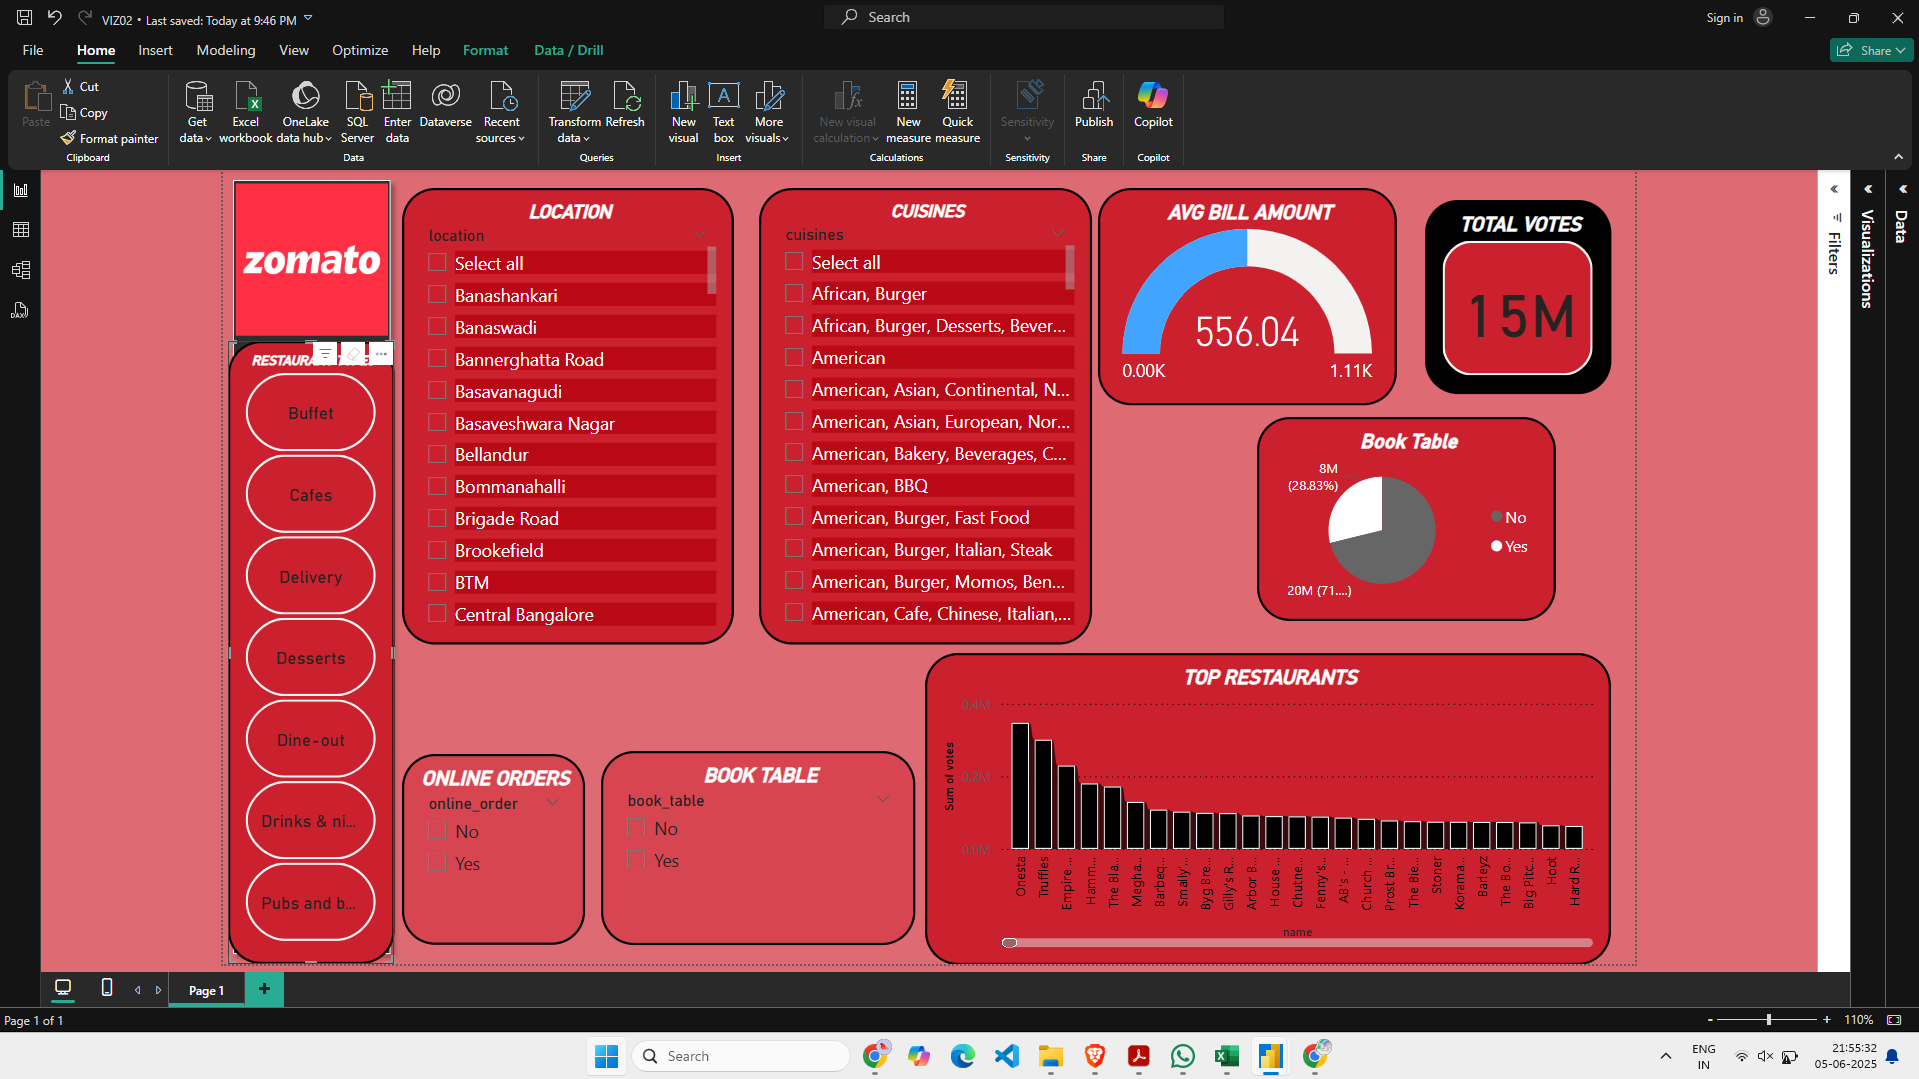

This screenshot's page, from the dashboard's own definition file:
{"tool":"powerbi","page":{"name":"Page 1","canvas":[1280,720],"ordinal":0},"visuals":[{"type":"shape","box":[0,0,161.5,719.8],"z":0},{"type":"image","box":[3.9,6.8,154.7,147.8],"z":1000},{"type":"gauge","title":"AVG BILL AMOUNT","fields":{"Y":["Avg(zomato.approx_cost(for two people))"]},"box":[793.7,16.5,271.4,197.4],"z":2000},{"type":"cardVisual","title":"TOTAL VOTES","fields":{"Data":["Sum(zomato.votes)"]},"box":[1089.5,27.4,168.8,175.6],"z":3000},{"type":"advancedSlicerVisual","title":"RESTAURANT TYPES","fields":{"Values":["zomato.listed_in(type)"]},"box":[4.1,155.1,150.9,565.4],"z":4000},{"type":"slicer","title":"LOCATION","fields":{"Values":["zomato.location"]},"box":[161.9,16.5,300.5,414.4],"z":5000},{"type":"slicer","title":"CUISINES","fields":{"Values":["zomato.cuisines"]},"box":[485.8,16.5,301.9,414.4],"z":6000},{"type":"pieChart","title":"Book Table","fields":{"Y":["Sum(zomato.approx_cost(for two people))"],"Category":["zomato.book_table"]},"box":[937.6,223.7,271.4,184.8],"z":7000},{"type":"columnChart","title":"TOP RESTAURANTS","fields":{"Category":["zomato.name"],"Y":["Sum(zomato.votes)"]},"box":[636.7,437.7,621.6,282.7],"z":9000},{"type":"slicer","title":"ONLINE ORDERS","fields":{"Values":["zomato.online_order"]},"box":[161.9,529.7,166,172.9],"z":10000},{"type":"slicer","title":"BOOK TABLE","fields":{"Values":["zomato.book_table"]},"box":[343.1,526.9,285.4,175.6],"z":11000}]}

Visuals, with their boxes on the page's 1280x720 design canvas (x1, y1, x2, y2). These are canvas units, not pixel positions in the 1919x1079 screenshot, which may show the page scaled, cropped or inside an application window:
shape: <box>0,0,162,720</box>
image: <box>4,7,159,155</box>
"AVG BILL AMOUNT" gauge: <box>794,16,1065,214</box>
"TOTAL VOTES" cardVisual: <box>1090,27,1258,203</box>
"RESTAURANT TYPES" advancedSlicerVisual: <box>4,155,155,720</box>
"LOCATION" slicer: <box>162,16,462,431</box>
"CUISINES" slicer: <box>486,16,788,431</box>
"Book Table" pieChart: <box>938,224,1209,408</box>
"TOP RESTAURANTS" columnChart: <box>637,438,1258,720</box>
"ONLINE ORDERS" slicer: <box>162,530,328,703</box>
"BOOK TABLE" slicer: <box>343,527,628,702</box>
